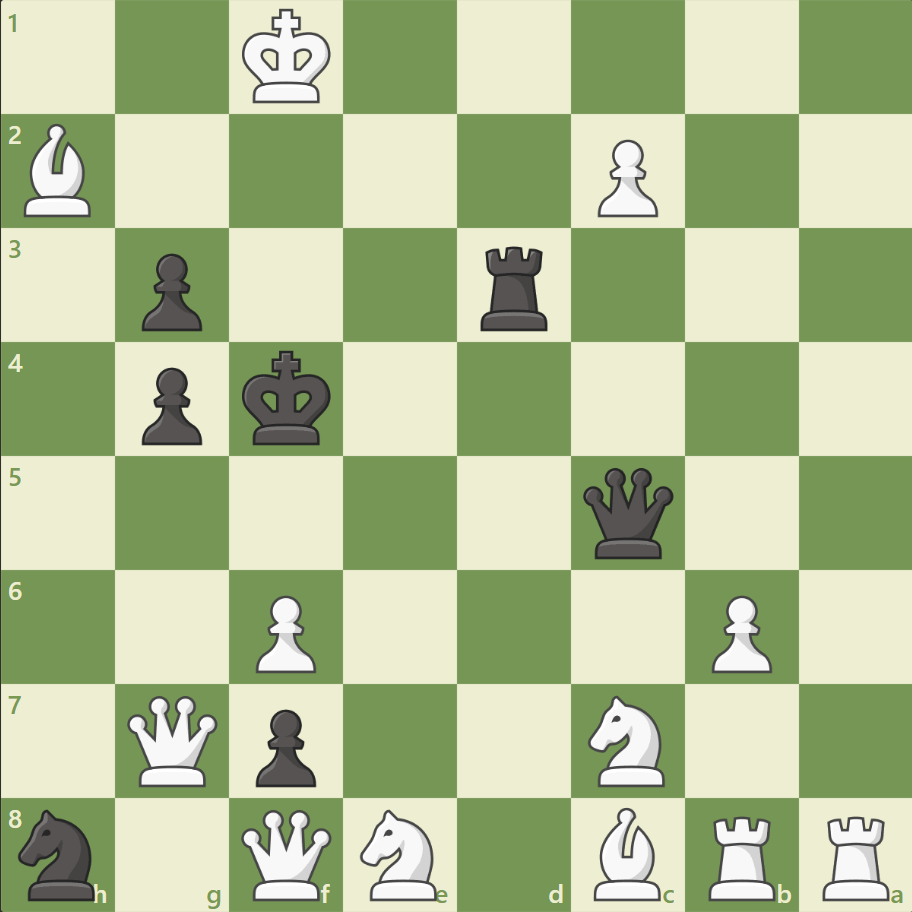B: (585, 801, 669, 904), (17, 120, 101, 222)
K: (238, 4, 338, 112)
N: (351, 802, 449, 904), (579, 688, 676, 791)
P: (701, 586, 776, 677), (247, 586, 322, 677), (588, 132, 662, 223)
Q: (237, 804, 336, 903), (124, 690, 223, 789)
R: (814, 806, 897, 904), (700, 806, 783, 904)
k: (238, 344, 338, 452)
n: (11, 802, 108, 904)
p: (247, 700, 322, 791), (133, 359, 208, 450), (133, 246, 208, 337)
q: (578, 463, 677, 562)
r: (473, 239, 556, 336)
